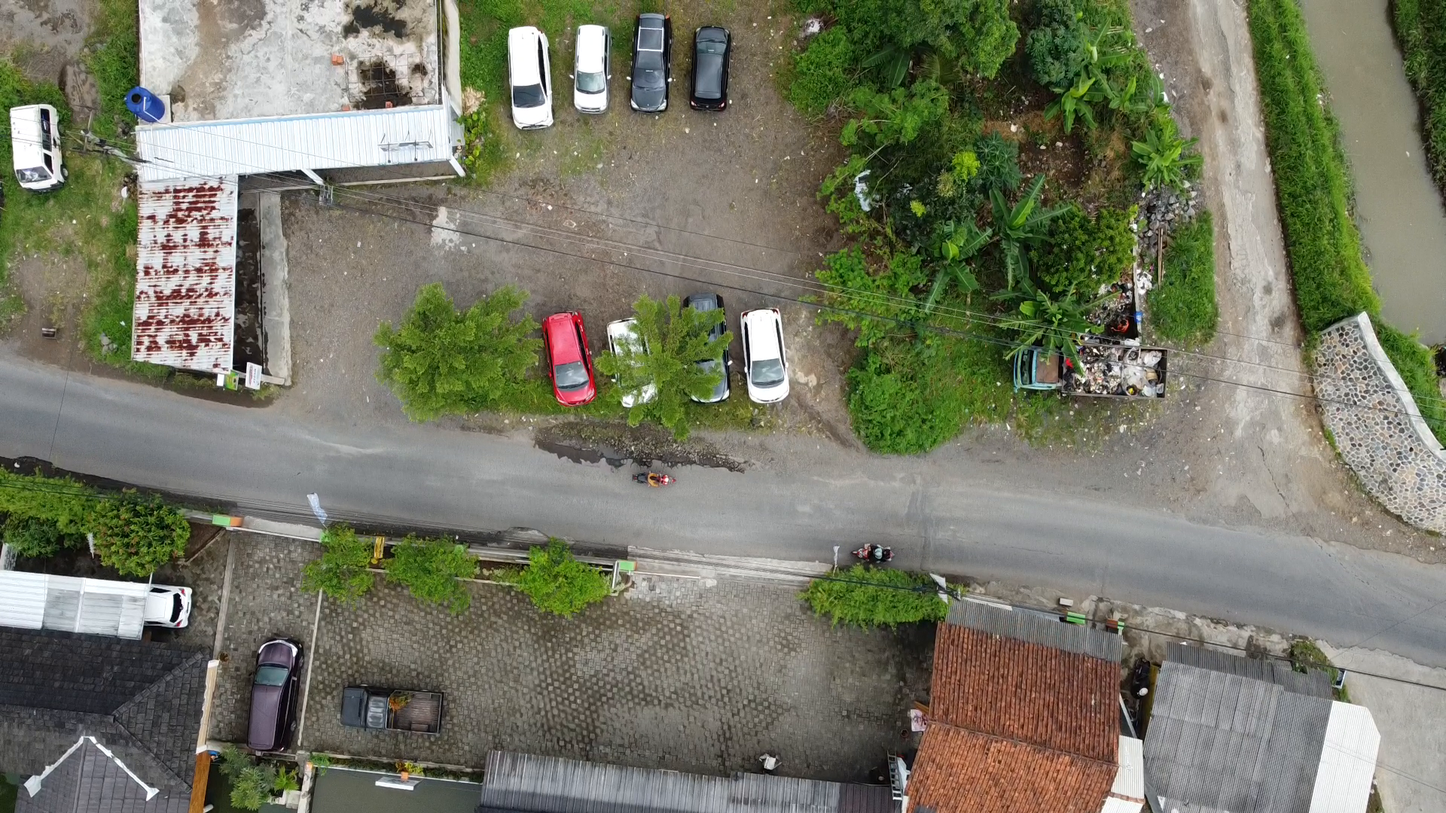mobil: (657, 278, 740, 411), (499, 16, 563, 139), (337, 671, 460, 735), (537, 309, 604, 411), (250, 629, 301, 761), (732, 293, 791, 406), (601, 311, 667, 409), (626, 1, 676, 127), (4, 102, 63, 194), (685, 12, 733, 123), (569, 17, 618, 124), (141, 577, 200, 642)
